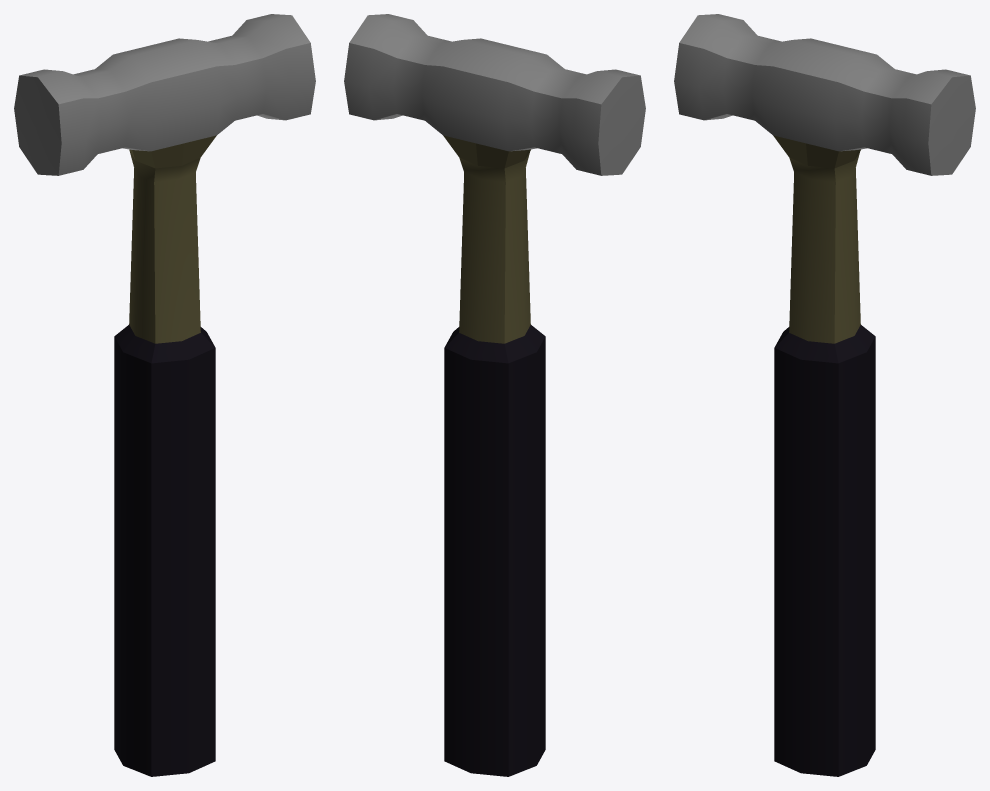
File: Texture_Hammer.obj
The picture shows the model from 3 angles, left to right: view 1: azimuth 30°, elevation 25°; view 2: azimuth 150°, elevation 25°; view 3: azimuth 330°, elevation 25°; orthographic projection.
Parts seen in each view (by area): view 1: hammerMesh; view 2: hammerMesh; view 3: hammerMesh.
Part boxes in pixels (x1=…): hammerMesh: x1=14, y1=14, x2=315, y2=776; hammerMesh: x1=344, y1=14, x2=645, y2=776; hammerMesh: x1=674, y1=14, x2=975, y2=776.
Size of the model in its own units: 4.36 by 11.63 by 1.43.
